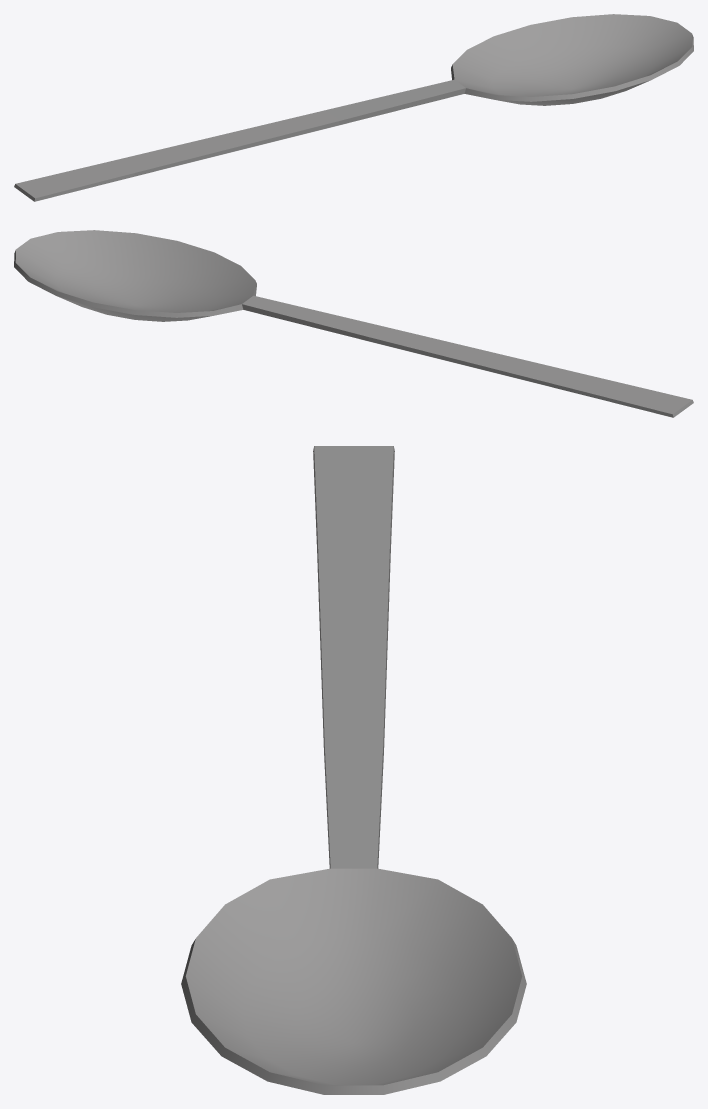
The model's file is Spoon.fbx.
3 views of the same model, one above another, from view 1: azimuth 30°, elevation 25°; view 2: azimuth 150°, elevation 25°; view 3: azimuth 270°, elevation 25° (orthographic). The views are drawn at different scales.
Visible parts, largest first — view 1: Spoon; view 2: Spoon; view 3: Spoon.
Part boxes in pixels (left/top/right/bottom): Spoon: left=14, top=14, right=693, bottom=201; Spoon: left=14, top=230, right=693, bottom=417; Spoon: left=181, top=446, right=526, bottom=1094.
Bounding box in the file's own units: 4.72 × 0.2594 × 1.07.
1 material, 1 textured.
